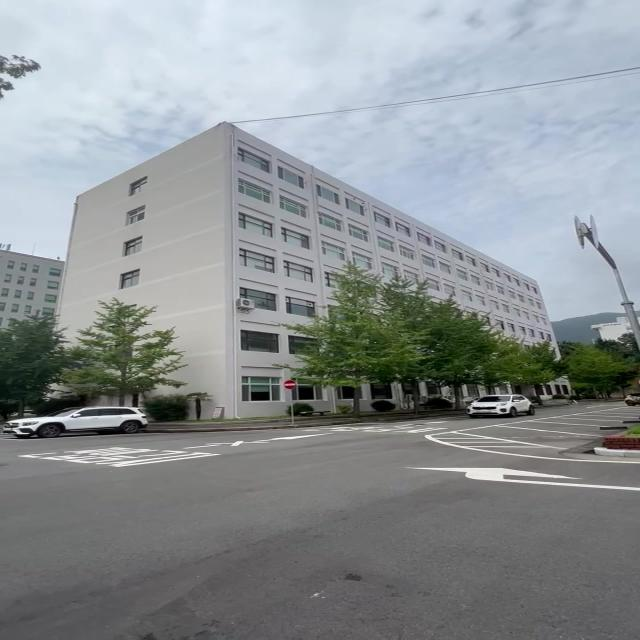building: (71, 135, 345, 309)
